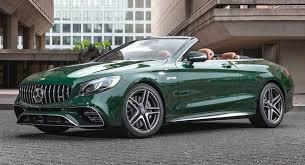mercedes: (33, 88, 42, 103)
